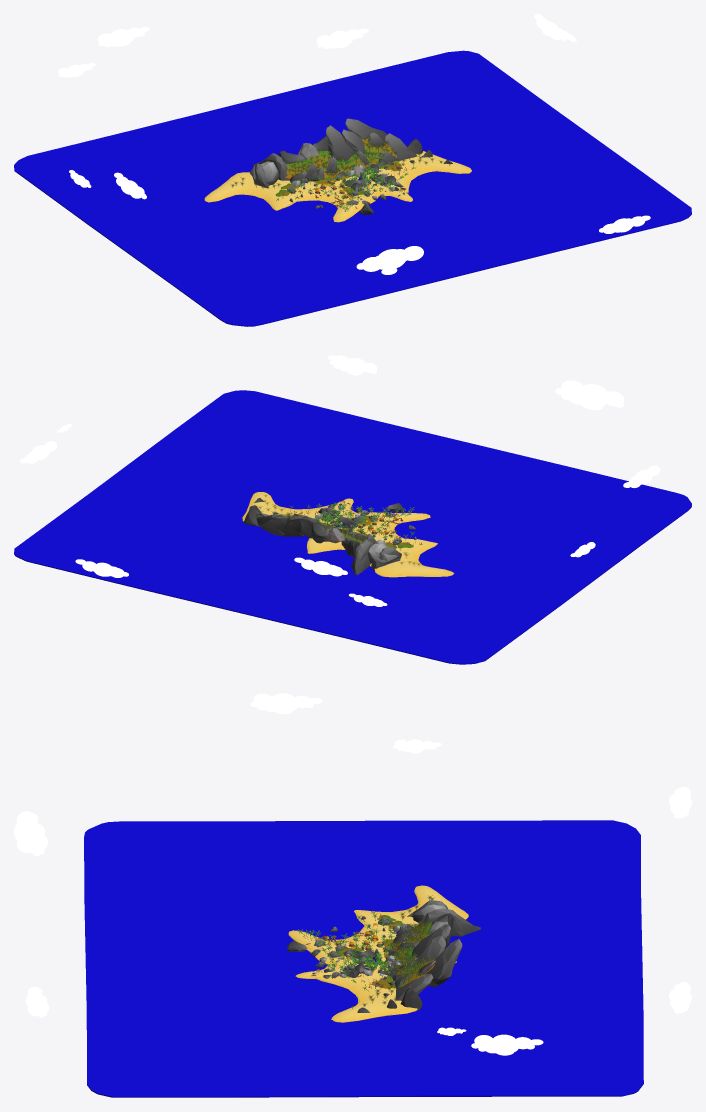
File: tropicalisland3.glb
3 renders of one model, top to bottom at view 1: azimuth 30°, elevation 25°; view 2: azimuth 150°, elevation 25°; view 3: azimuth 270°, elevation 25°, orthographic. The views are drawn at different scales.
Visible parts, largest first — view 1: Cube.001, BeachPart_U__6_, BeachPart_U__3_, BeachPart_U__2_, Rock__13_; view 2: Cube.001, BeachPart_U__6_, BeachPart_U__2_, BeachPart_U__3_, Rock__22_, Rock__44_; view 3: Cube.001, BeachPart_U__3_, BeachPart_U__6_, BeachPart_U__2_, Rock__22_, Rock__44_.
Boxes of the visible parts, <box> form: Cube.001: <box>14,50,691,326</box>; BeachPart_U__6_: <box>204,172,306,210</box>; BeachPart_U__3_: <box>364,151,471,192</box>; BeachPart_U__2_: <box>297,181,378,222</box>; Rock__13_: <box>326,125,356,160</box>; Cube.001: <box>14,390,691,664</box>; BeachPart_U__6_: <box>374,537,454,577</box>; BeachPart_U__2_: <box>352,512,430,540</box>; BeachPart_U__3_: <box>242,492,341,526</box>; Rock__22_: <box>256,515,287,535</box>; Rock__44_: <box>351,539,373,575</box>; Cube.001: <box>84,820,643,1097</box>; BeachPart_U__3_: <box>316,964,417,1022</box>; BeachPart_U__6_: <box>354,885,468,931</box>; BeachPart_U__2_: <box>288,925,396,964</box>; Rock__22_: <box>425,939,462,987</box>; Rock__44_: <box>418,908,480,936</box>.
Size of the model in its own units: 1195 by 228 by 1102.
Materials: 94 (3 with a texture image).
